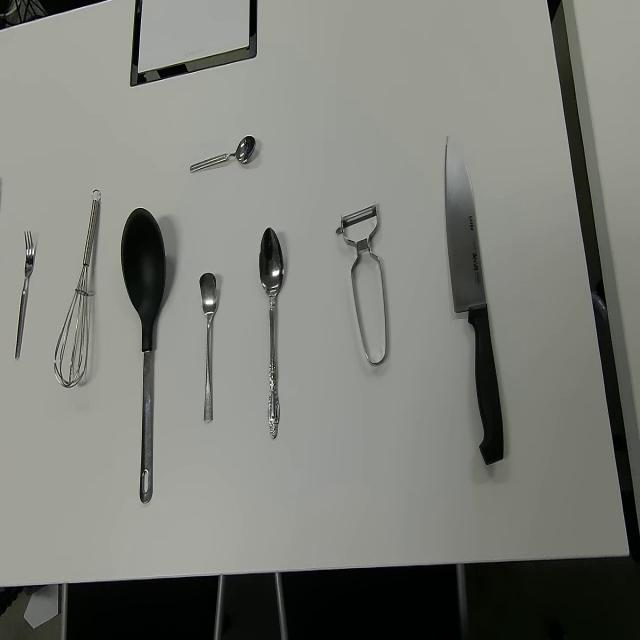Desert-Spoon: (258, 225, 284, 440)
Dinner-Fork: (14, 227, 35, 362)
Kitchen-Knife: (444, 134, 504, 468)
Peeler: (334, 202, 388, 366)
Serving-Spoon: (120, 204, 166, 503)
Tea-Spoon: (198, 270, 218, 424), (188, 133, 257, 173)
Whisk: (54, 189, 102, 387)
